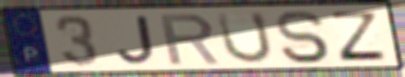3: (54, 13, 102, 69)
J: (115, 14, 158, 66)
R: (158, 13, 223, 67)
S: (273, 9, 332, 65)
U: (215, 10, 276, 65)
Z: (330, 10, 390, 63)
